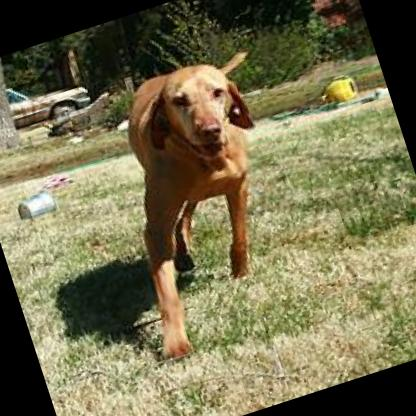vizsla: (75, 46, 324, 360)
